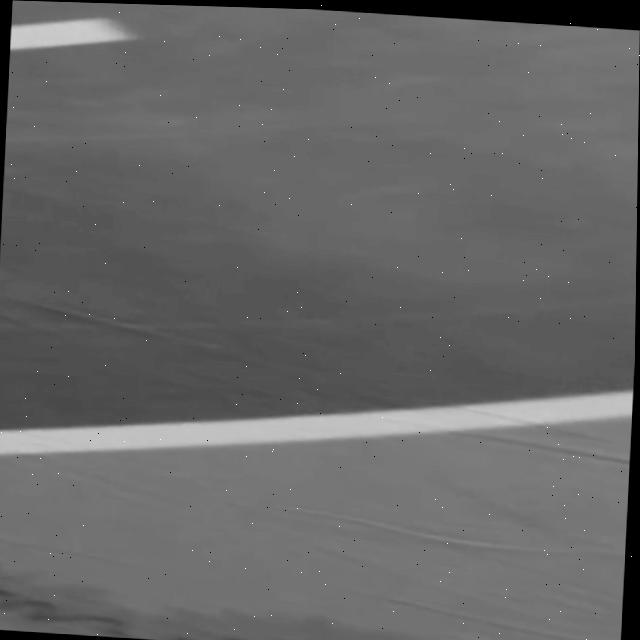center: (9, 17, 134, 49)
right: (0, 389, 633, 454)
